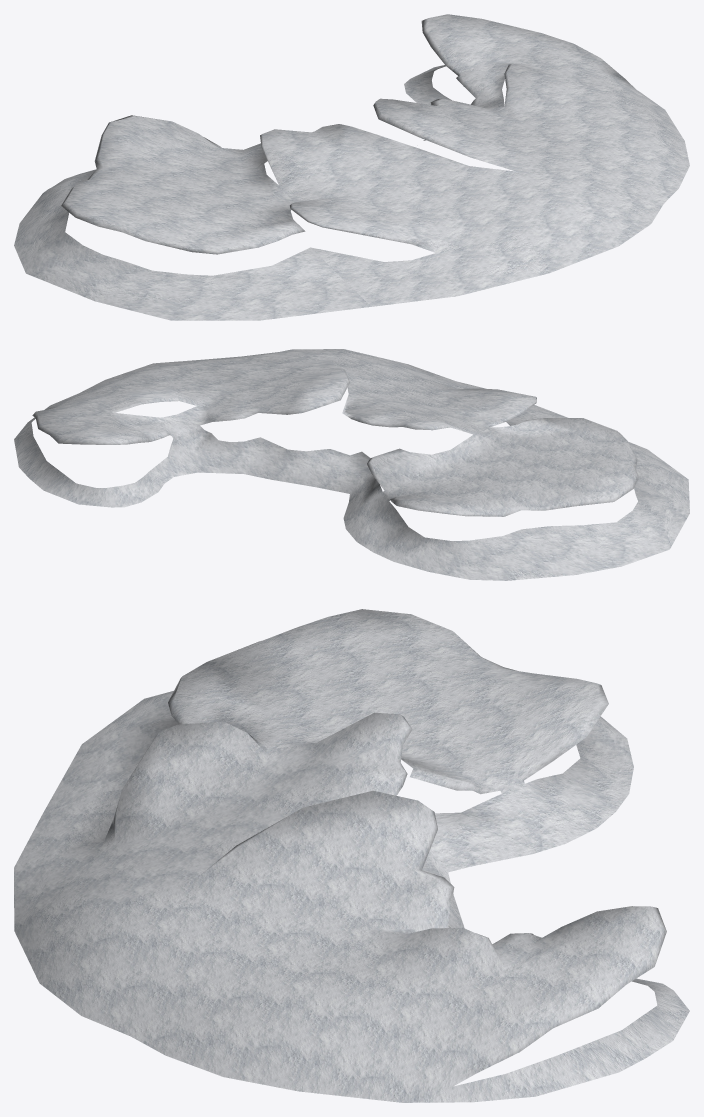
The model's file is Custom_Model_8524e8-transformed.glb.
3 renders of one model, top to bottom at view 1: azimuth 30°, elevation 25°; view 2: azimuth 150°, elevation 25°; view 3: azimuth 270°, elevation 25°, orthographic. The views are drawn at different scales.
Parts seen in each view (by area): view 1: GroundPlateau2.001; view 2: GroundPlateau2.001; view 3: GroundPlateau2.001.
Boxes of the visible parts, left/top/right/bottom form: GroundPlateau2.001: left=14, top=14, right=689, bottom=320; GroundPlateau2.001: left=14, top=349, right=689, bottom=580; GroundPlateau2.001: left=14, top=609, right=689, bottom=1102.
Bounding box in the file's own units: 10.35 × 1.19 × 6.56.
Materials: 1 (1 with a texture image).
